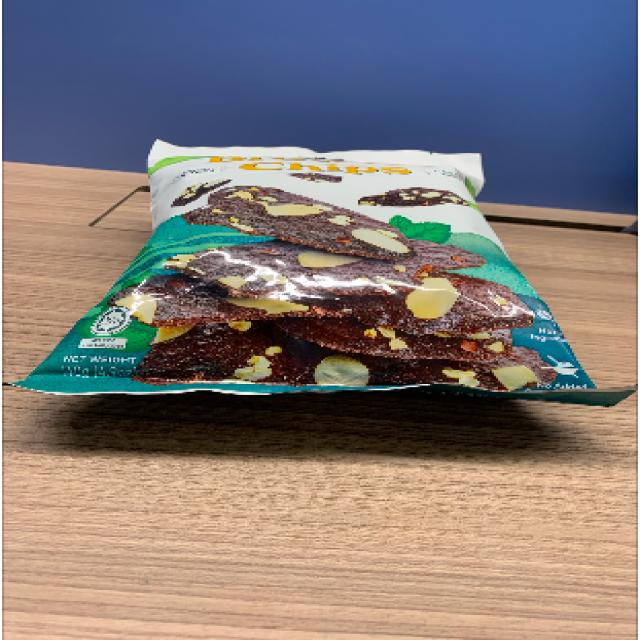object_name: (73, 146, 540, 404)
